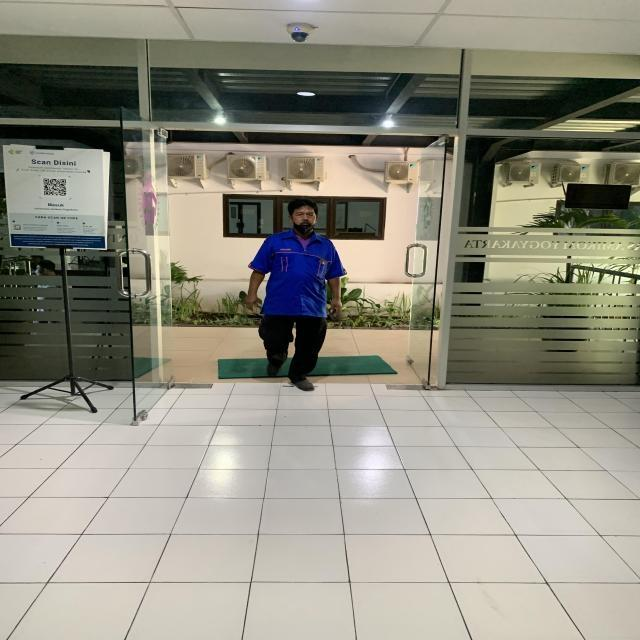hairnet: (288, 217, 320, 232)
